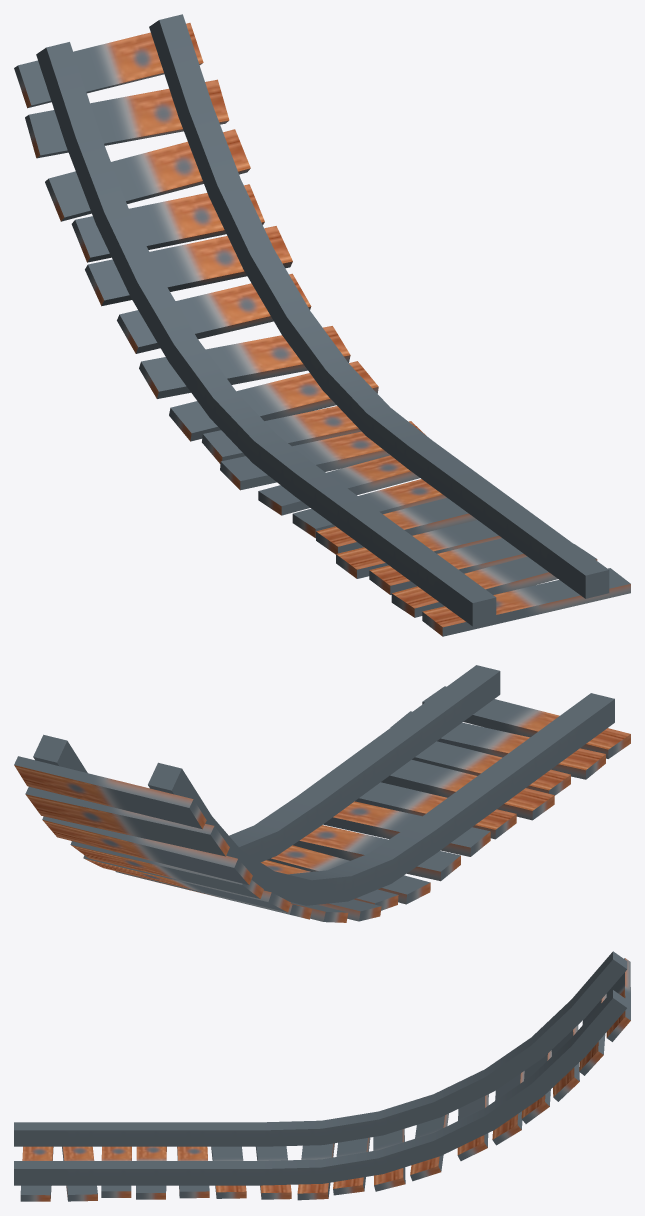
The model's file is road_up_high.fbx.
The picture shows the model from 3 angles, top to bottom: view 1: azimuth 30°, elevation 25°; view 2: azimuth 150°, elevation 25°; view 3: azimuth 270°, elevation 25°; orthographic projection. The views are drawn at different scales.
Parts seen in each view (by area): view 1: up_hi; view 2: up_hi; view 3: up_hi.
Part boxes in pixels (x1,y1,x2,y2): up_hi: (14, 14, 630, 636); up_hi: (14, 665, 630, 922); up_hi: (14, 951, 630, 1201).
Size of the model in its own units: 12.59 by 17.36 by 49.92.
